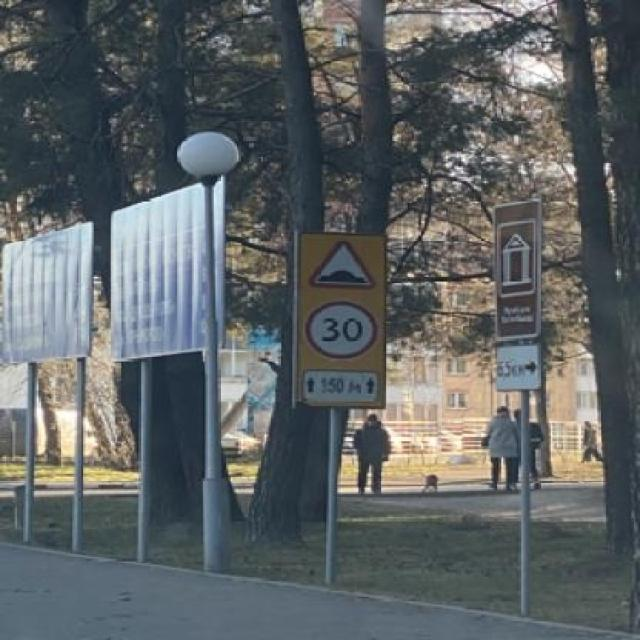forb_speed_over_30: (306, 298, 379, 359)
